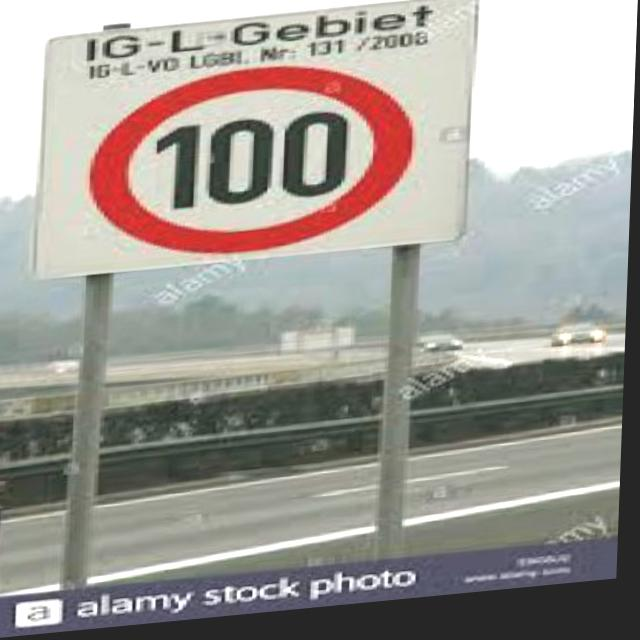limit100: (88, 53, 432, 283)
